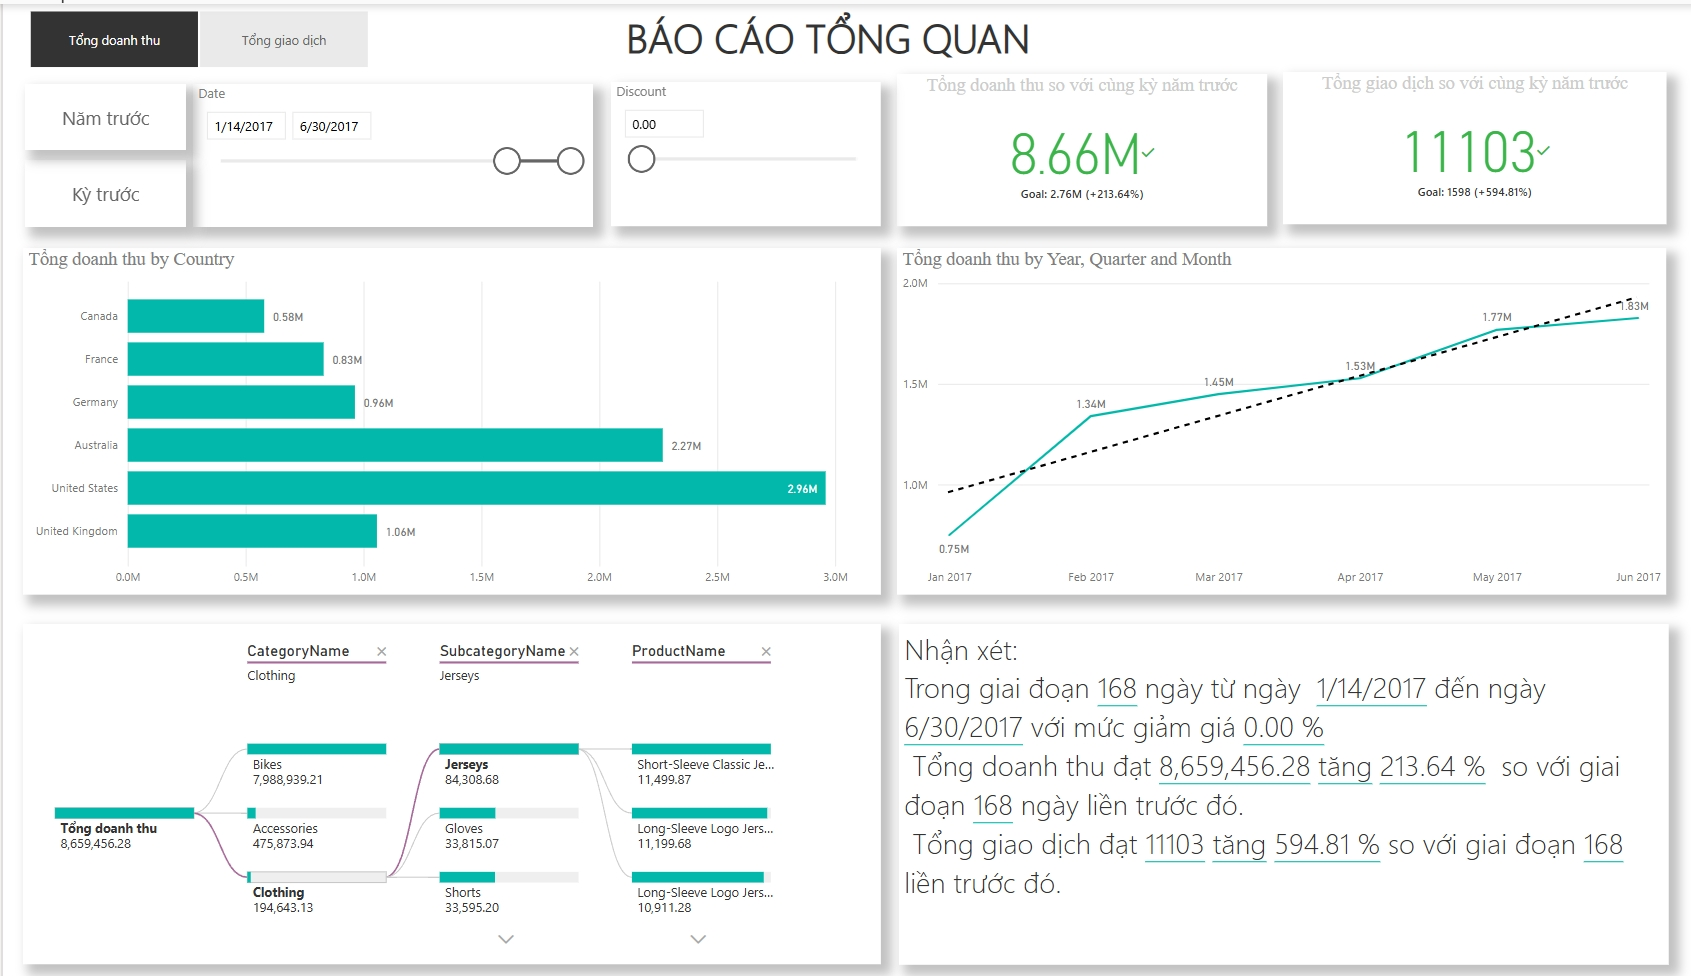

Layout of this report page (visuals, bound fields, positions):
{"tool":"powerbi","page":{"name":"General Report","canvas":[1580,920],"ordinal":0},"visuals":[{"type":"kpi","title":"Tổng doanh thu so với cùng kỳ năm trước","fields":{"Indicator":["Measure.Tổng doanh thu"],"Goal":["Measure.Tổng doanh thu_ LY"],"TrendLine":["Calendar.Column"]},"box":[837.4,65.9,346.5,142.7],"z":0},{"type":"slicer","title":"Date ","fields":{"Values":["Calendar.Date"]},"box":[177.2,75.5,374.5,134.1],"z":1000},{"type":"kpi","title":"Tổng giao dịch so với cùng kỳ năm trước","fields":{"TrendLine":["Calendar.Column"],"Indicator":["Measure.Tổng giao dịch"],"Goal":["Measure.Tổng giao dịch_LY"]},"box":[1198,64.3,359.1,142.7],"z":2000},{"type":"barChart","fields":{"Y":["Measure.Tổng doanh thu"],"Category":["Territories.Country"]},"box":[18.8,228.9,802.9,324.6],"z":3000},{"type":"lineChart","fields":{"Y":["Measure.Tổng doanh thu"],"Category":["Calendar.Date.Variation.Date Hierarchy.Year","Calendar.Date.Variation.Date Hierarchy.Quarter","Calendar.Date.Variation.Date Hierarchy.Month","Calendar.Date.Variation.Date Hierarchy.Day"]},"box":[837.4,228.9,719.8,324.6],"z":4000},{"type":"slicer","fields":{"Values":["Parameter.Parameter"]},"box":[0,0,365.4,65.9],"z":5000},{"type":"decompositionTreeVisual","fields":{"Analyze":["Measure.Tổng doanh thu"],"ExplainBy":["Product_Categories.CategoryName","Product_Subcategories.SubcategoryName","Products.ProductName"]},"box":[18.8,580.2,802.9,318.3],"z":6000},{"type":"textbox","box":[437.5,0,679,65.9],"z":8000},{"type":"slicer","title":"Discount","fields":{"Values":["Discount.Discount"]},"box":[569.2,73.7,252.5,134.9],"z":9000},{"type":"actionButton","title":"Năm trước","box":[20,75.5,151,61.6],"z":14000},{"type":"actionButton","box":[20,146.4,151,63.2],"z":15000},{"type":"textbox","box":[838,579.5,720.5,319.1],"z":16000}]}

Visuals, with their boxes in screenshot pixels (x1, y1, x2, y2), scaled from the page's 1580x920 canvas onto the 1691x976 screenshot:
"Tổng doanh thu so với cùng kỳ năm trước" kpi: [left=896, top=70, right=1267, bottom=221]
"Date " slicer: [left=190, top=80, right=590, bottom=222]
"Tổng giao dịch so với cùng kỳ năm trước" kpi: [left=1282, top=68, right=1666, bottom=220]
barChart - Measure.Tổng doanh thu x Territories.Country: [left=20, top=243, right=879, bottom=587]
lineChart - Measure.Tổng doanh thu x Calendar.Date.Variation.Date Hierarchy.Year: [left=896, top=243, right=1667, bottom=587]
slicer - Parameter.Parameter: [left=0, top=0, right=391, bottom=70]
decompositionTreeVisual - Measure.Tổng doanh thu x Product_Categories.CategoryName: [left=20, top=616, right=879, bottom=953]
textbox: [left=468, top=0, right=1195, bottom=70]
"Discount" slicer: [left=609, top=78, right=879, bottom=221]
"Năm trước" actionButton: [left=21, top=80, right=183, bottom=145]
actionButton: [left=21, top=155, right=183, bottom=222]
textbox: [left=897, top=615, right=1668, bottom=953]
